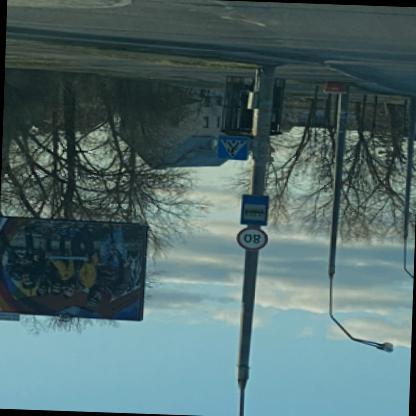crosswalk: (218, 134, 253, 164)
speedlimit: (237, 226, 271, 251)
